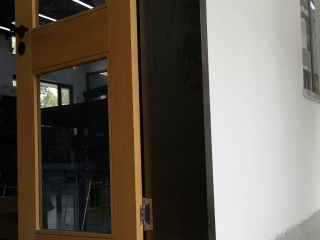room: (4, 3, 216, 240)
